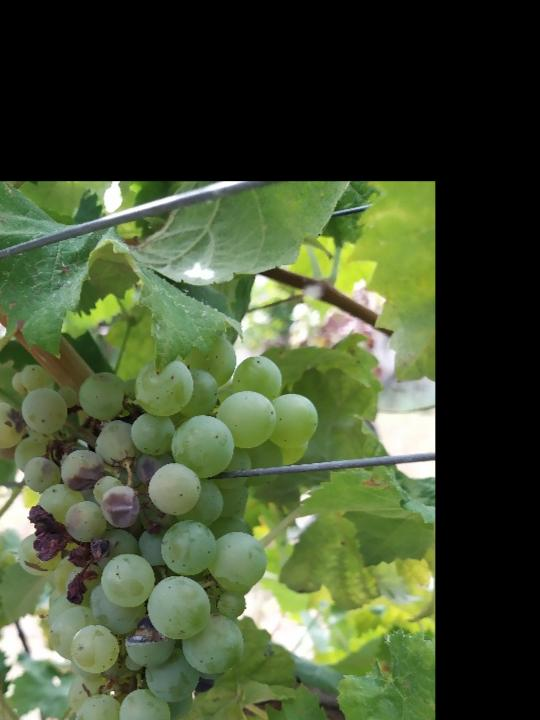grape: (0, 334, 321, 720)
